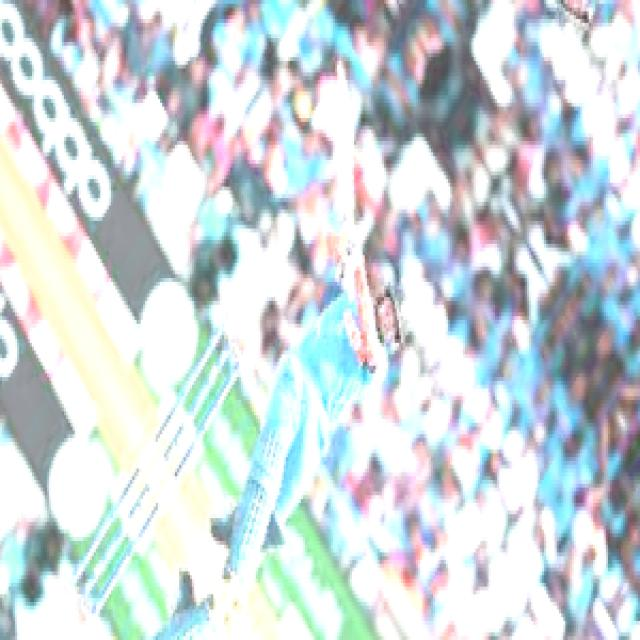toe: (334, 53, 349, 96)
